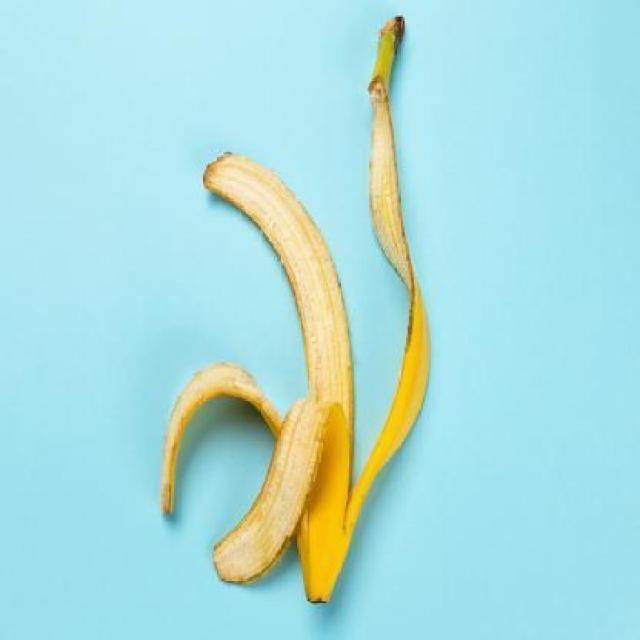banana-peel: (159, 149, 356, 601)
